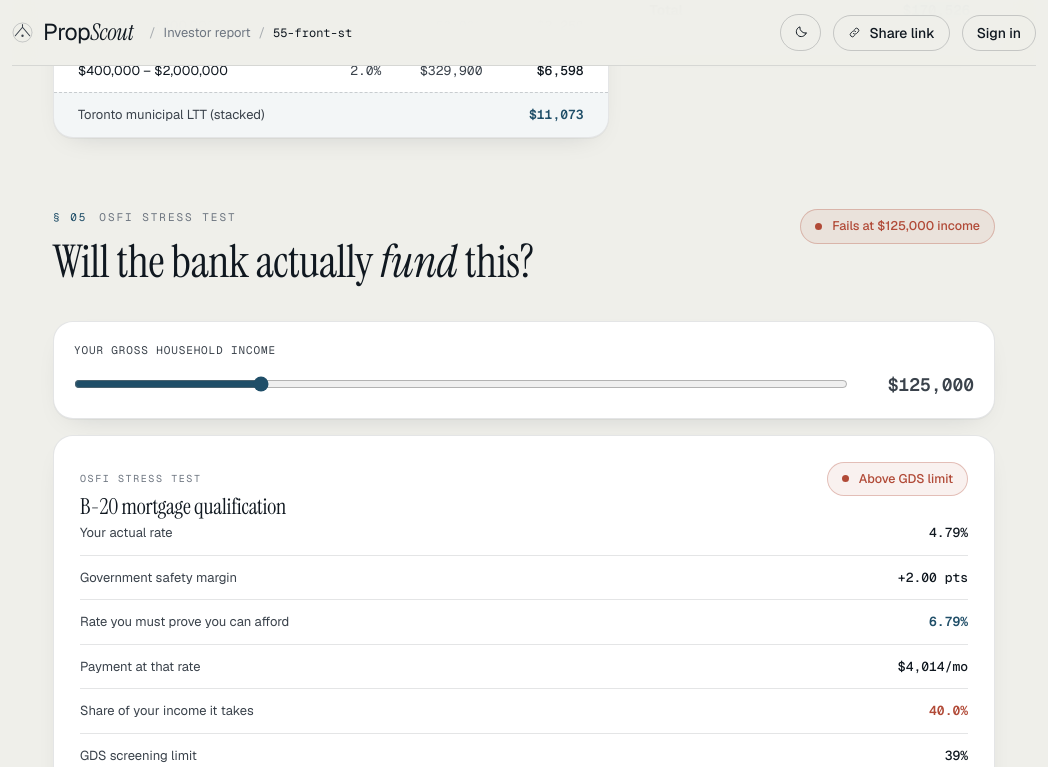
Test: ReportPage — risk-flag overrides › recomputes the OSFI verdict live when household income changes
The image size is (1048, 767).
(page scrolled)
# Drop income to the floor → GDS blows past 44%, OSFI must read "Fails".
Set the slider labelled "Your gross household income" to "40000": (82, 384) top-left (74, 376), bottom-right (848, 392)
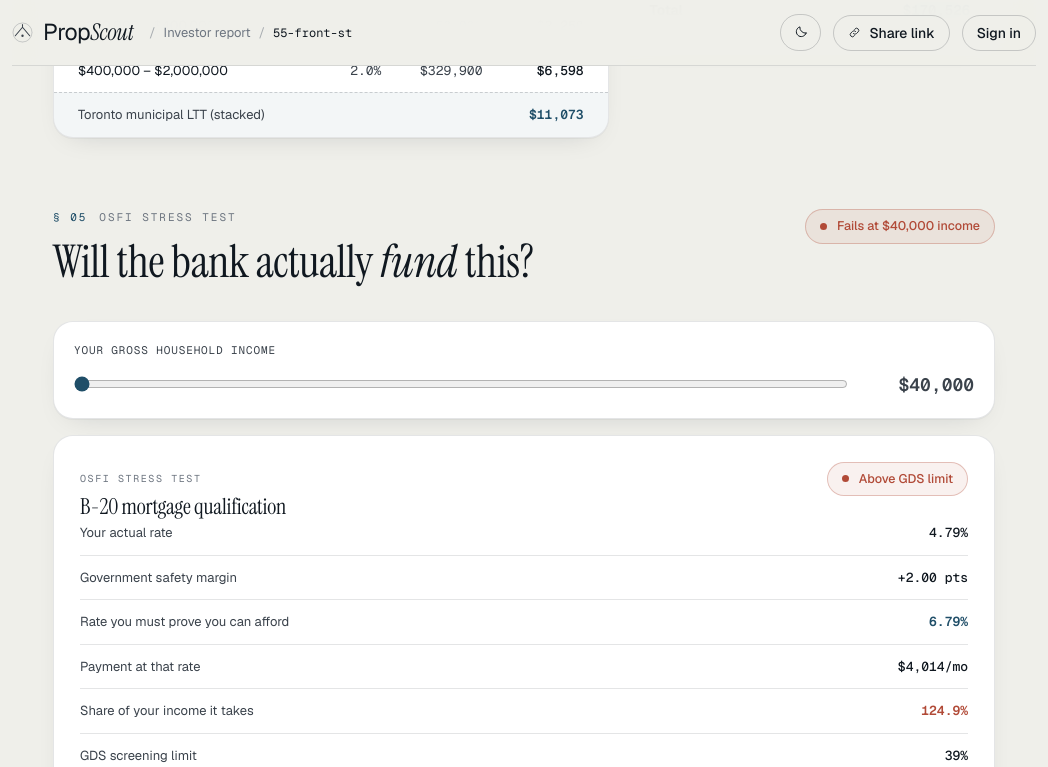
Check: the text "Fails at $40,000 income" is shown, box top-left (805, 209), bottom-right (995, 244)
# Raise income to the ceiling → comfortably qualifies again.
Set the slider labelled "Your gross household income" to "400000": (840, 384) top-left (74, 376), bottom-right (848, 392)
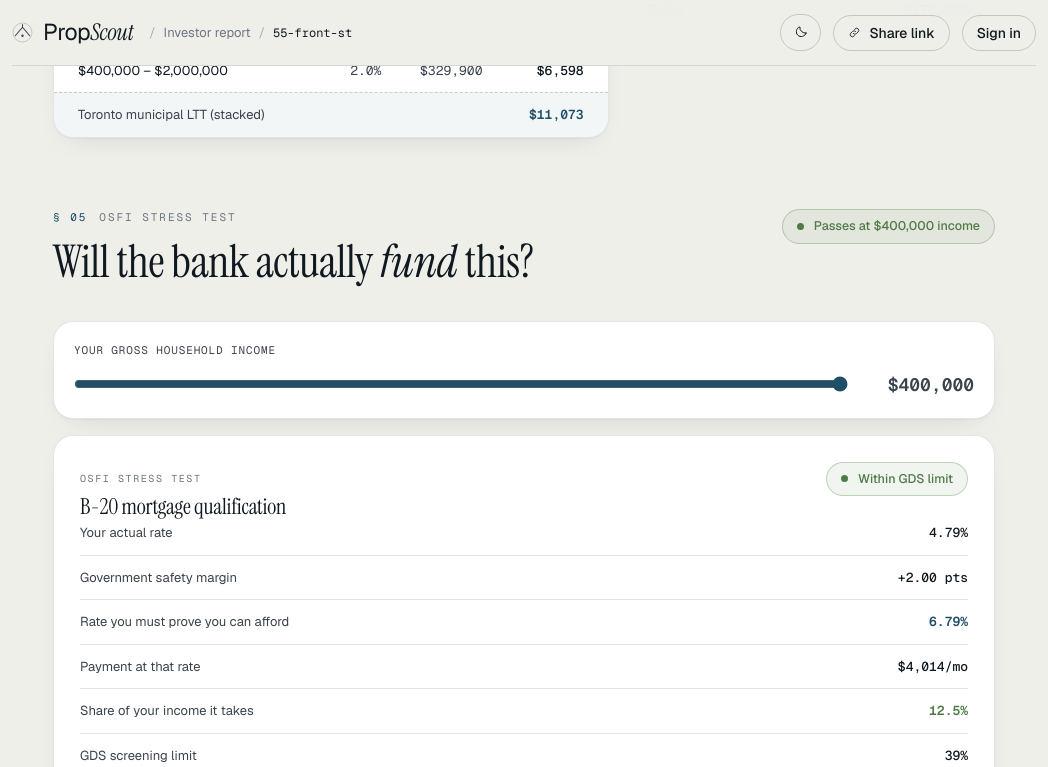
Check: the text "Passes at $400,000 income" is shown, box top-left (782, 209), bottom-right (995, 244)
